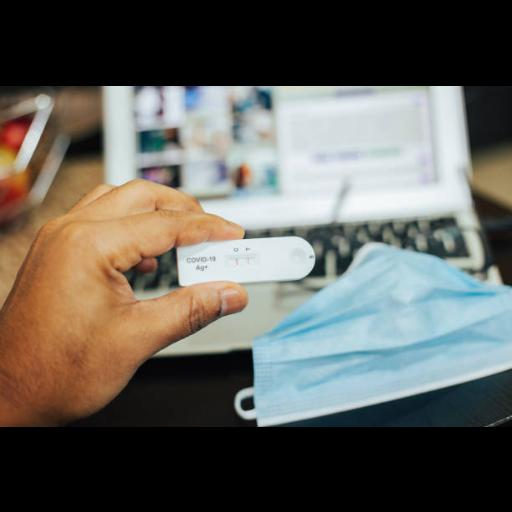Pos: (178, 236, 316, 288)
